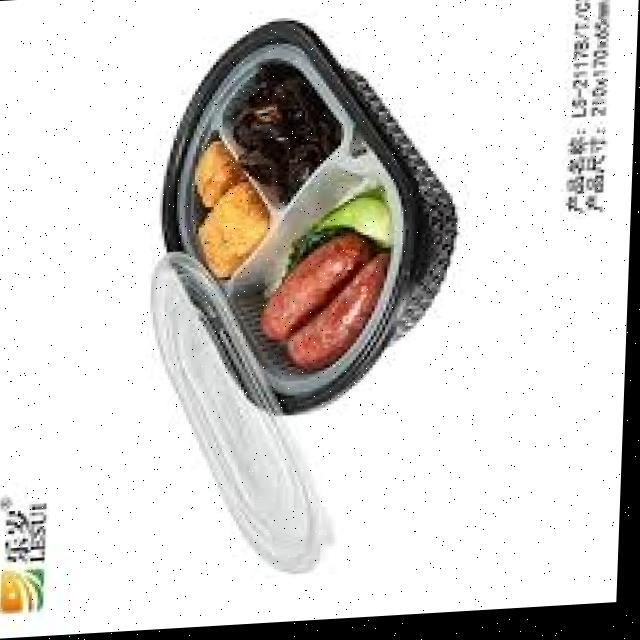disposable: (127, 0, 478, 439)
